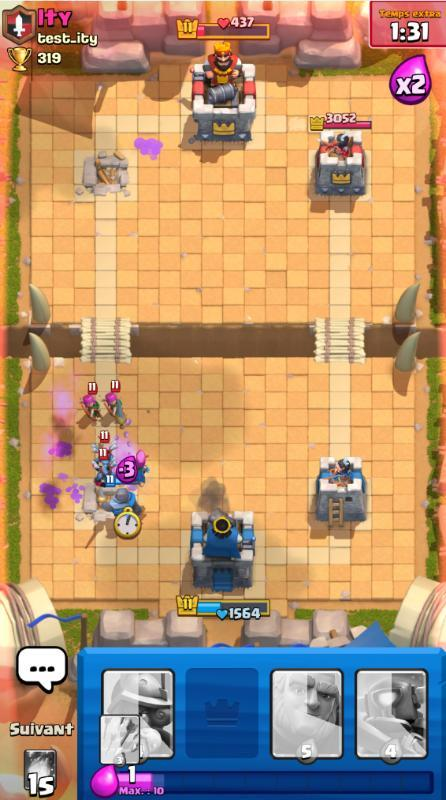archere: (102, 380, 127, 428), (80, 382, 104, 427), (135, 449, 151, 487)
chevalier: (97, 482, 142, 517)
gargouille: (92, 429, 118, 468), (92, 448, 116, 486)
